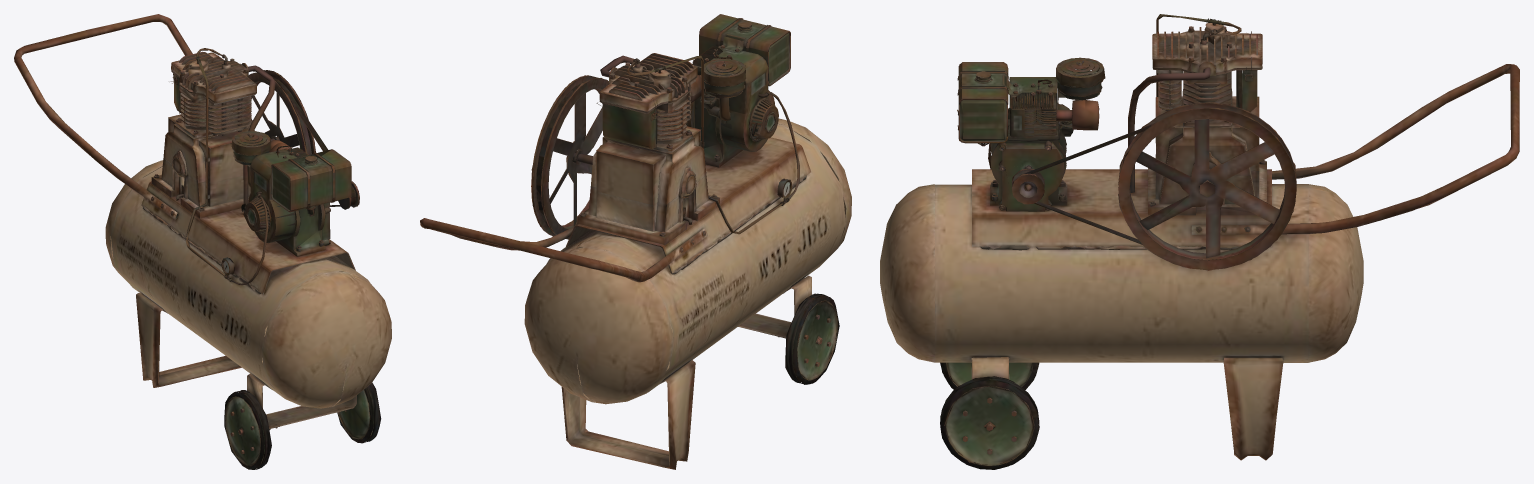
The model's file is old_military_compressor.glb.
3 renders of one model, left to right at view 1: azimuth 30°, elevation 25°; view 2: azimuth 150°, elevation 25°; view 3: azimuth 270°, elevation 25°, orthographic. The views are drawn at different scales.
Parts seen in each view (by area): view 1: old_military_compressor; view 2: old_military_compressor; view 3: old_military_compressor.
Boxes of the visible parts, box(x1,y1,x2,y2) form: old_military_compressor: box(14, 14, 391, 469); old_military_compressor: box(420, 14, 851, 469); old_military_compressor: box(880, 14, 1519, 469).
Size of the model in its own units: 0.5978 by 1.18 by 1.67.
2 materials, 2 textured.
